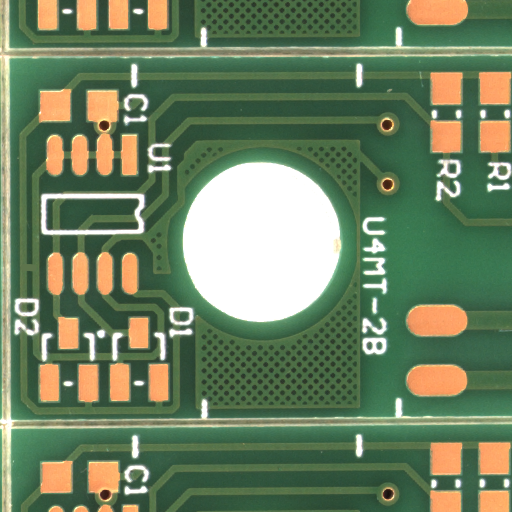Short: (29, 268, 43, 282)
